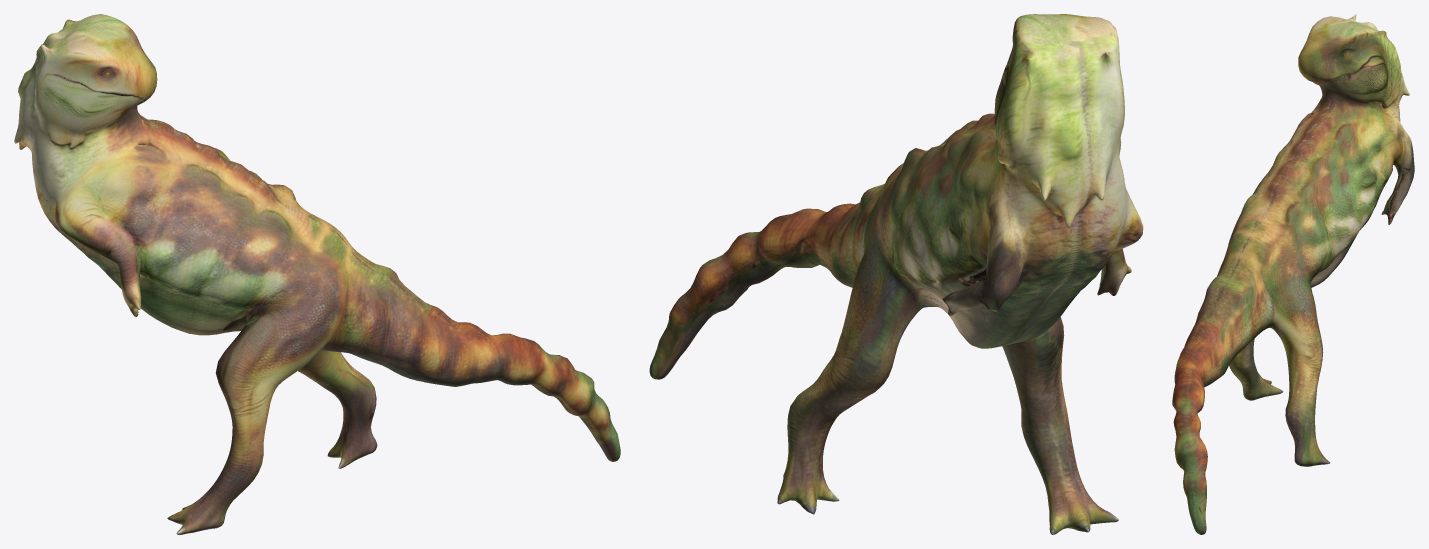
The picture shows the model from 3 angles, left to right: view 1: azimuth 30°, elevation 25°; view 2: azimuth 150°, elevation 25°; view 3: azimuth 270°, elevation 25°; orthographic projection. The views are drawn at different scales.
Parts seen in each view (by area): view 1: Mesh0.001; view 2: Mesh0.001; view 3: Mesh0.001.
Part boxes in pixels (x1,y1,x2,y2): Mesh0.001: (14,14,620,534); Mesh0.001: (649,14,1143,534); Mesh0.001: (1172,14,1414,534).
Size of the model in its own units: 0.0532 by 0.0491 by 0.0302.
Materials: 1 (1 with a texture image).
